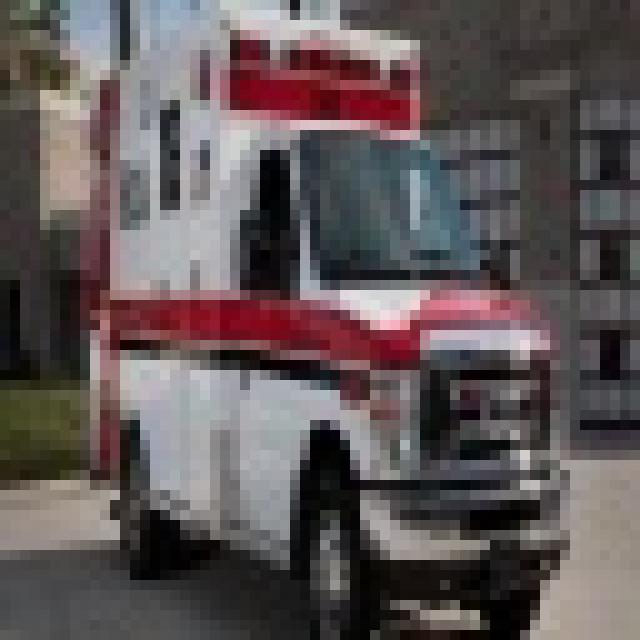Ambulance: (70, 0, 570, 630)
